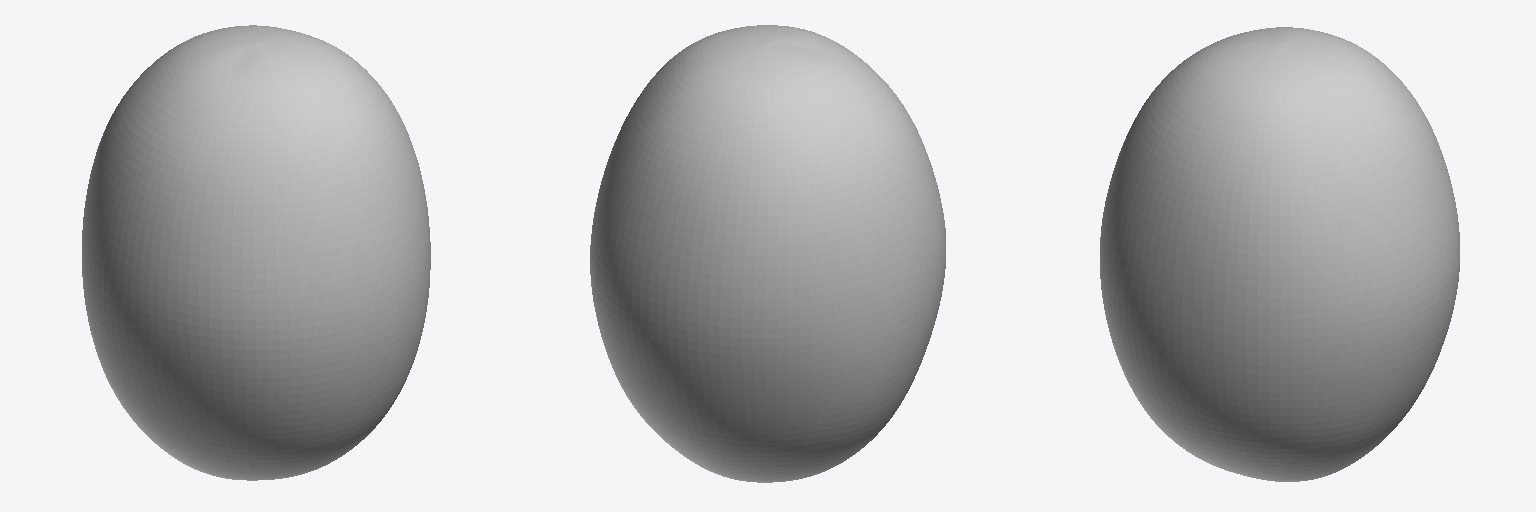
The model's file is watermelon.obj.
3 views of the same model, side by side, from view 1: azimuth 30°, elevation 25°; view 2: azimuth 150°, elevation 25°; view 3: azimuth 270°, elevation 25° (orthographic).
Visible parts, largest first — view 1: Watermelon_Mesh; view 2: Watermelon_Mesh; view 3: Watermelon_Mesh.
Part boxes in pixels (bbox=[...]): Watermelon_Mesh: bbox=[82, 25, 430, 480]; Watermelon_Mesh: bbox=[590, 25, 945, 482]; Watermelon_Mesh: bbox=[1100, 27, 1459, 481].
Size of the model in its own units: 19.71 by 26.26 by 20.17.